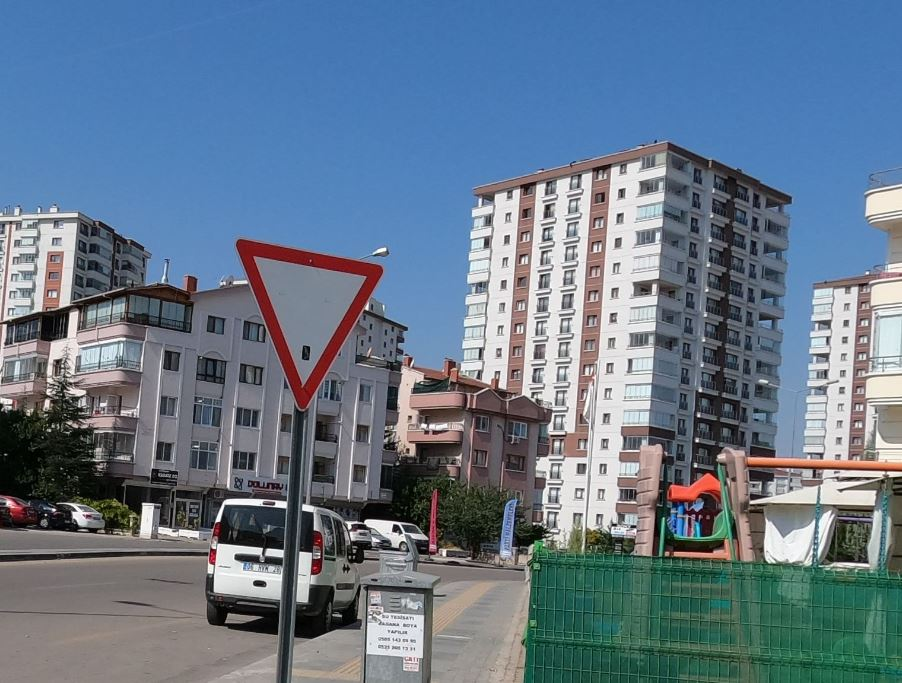Yol Ver: (229, 229, 413, 413)
